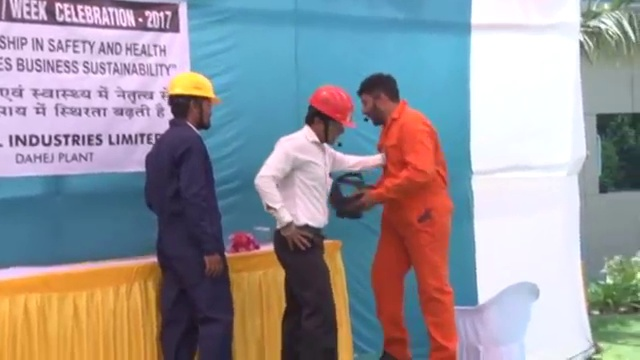helmet: (306, 83, 357, 129), (166, 70, 222, 103)
helmet_off: (358, 73, 402, 128)
helmet_on: (303, 83, 359, 150), (164, 70, 222, 132)
person: (252, 83, 386, 360), (356, 71, 462, 360), (143, 70, 233, 358)
